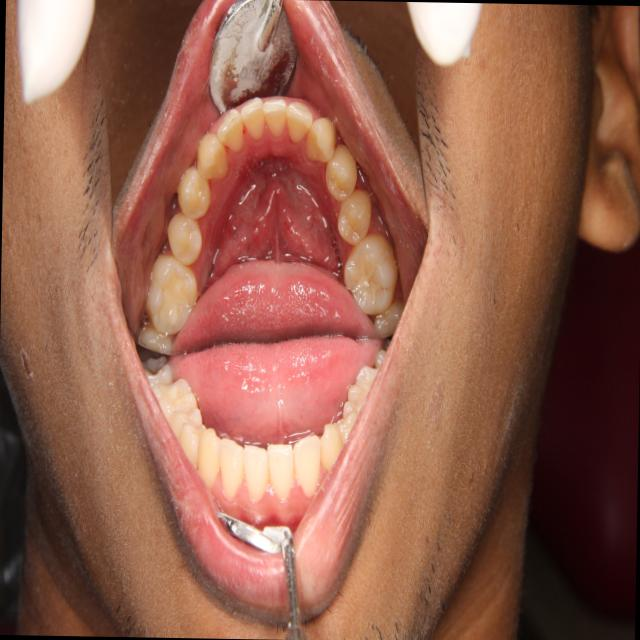tooth: (141, 243, 200, 340), (341, 225, 400, 319), (332, 180, 375, 246), (162, 207, 207, 269), (323, 141, 360, 206), (174, 162, 212, 224), (190, 126, 231, 182), (301, 106, 339, 165), (134, 319, 180, 360), (286, 90, 315, 150), (238, 89, 267, 146), (215, 105, 245, 157), (259, 92, 288, 140)
